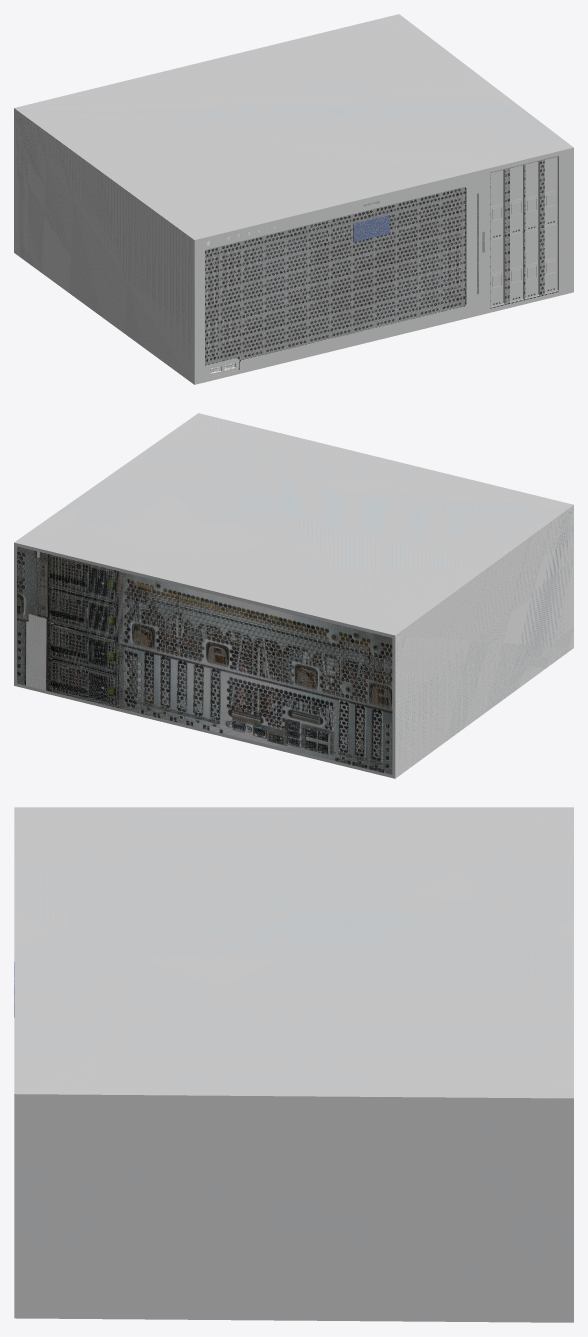
File: Sun Microsystems SunFire V445.gltf
The picture shows the model from 3 angles, top to bottom: view 1: azimuth 30°, elevation 25°; view 2: azimuth 150°, elevation 25°; view 3: azimuth 270°, elevation 25°; orthographic projection. The views are drawn at different scales.
Parts seen in each view (by area): view 1: ID1097, ID1138, ID1156, ID1123, group_4, group_9, group_14, group_11, group_5, group_7, group_8, group_6 (+2 smaller); view 2: ID1097, ID1082, ID1156; view 3: ID1097.
Part boxes in pixels (left/top/right/bottom): ID1097: left=14, top=14, right=573, bottom=384; ID1138: left=205, top=187, right=465, bottom=365; ID1156: left=14, top=108, right=386, bottom=384; ID1123: left=490, top=155, right=558, bottom=308; group_4: left=544, top=223, right=557, bottom=293; group_9: left=525, top=161, right=538, bottom=231; group_14: left=525, top=229, right=538, bottom=298; group_11: left=544, top=157, right=557, bottom=226; group_5: left=490, top=170, right=503, bottom=239; group_7: left=490, top=237, right=503, bottom=306; group_8: left=510, top=232, right=522, bottom=302; group_6: left=510, top=165, right=522, bottom=234; ID1097: left=14, top=413, right=573, bottom=778; ID1082: left=17, top=546, right=392, bottom=774; ID1156: left=395, top=505, right=573, bottom=778; ID1097: left=14, top=807, right=573, bottom=1322.
Size of the model in its own units: 6.76 by 2.43 by 5.49.
275 materials, 4 textured.
